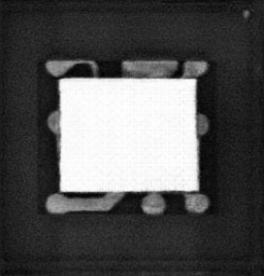DIE_INK: (240, 8, 251, 18)
